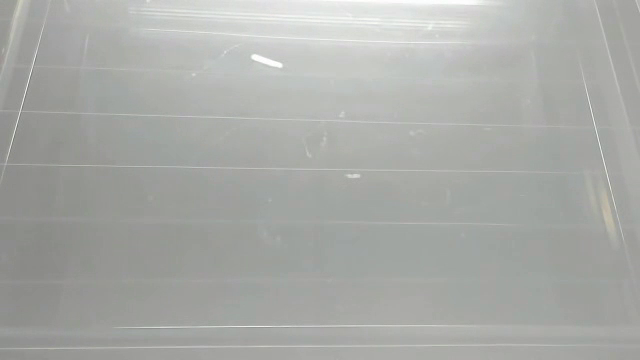alpha: (247, 51, 288, 73), (340, 168, 366, 184)
